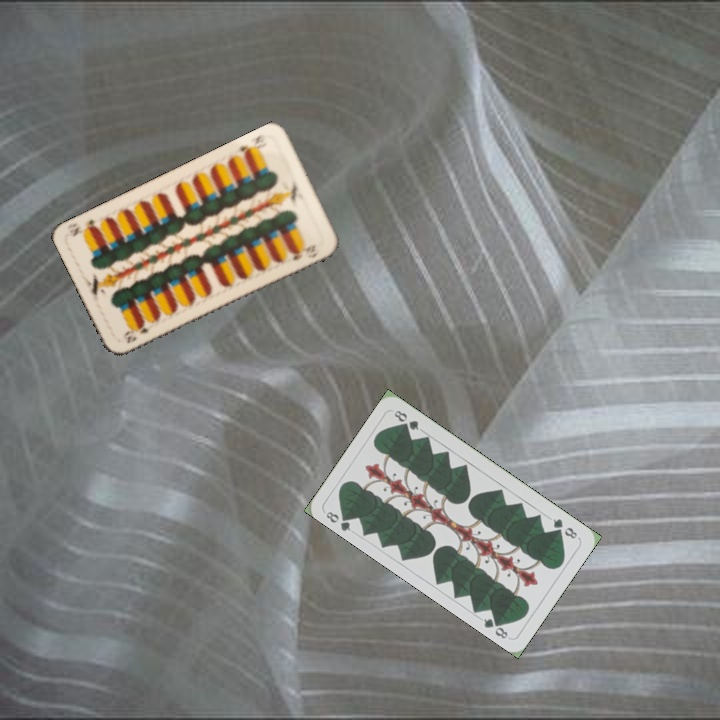E10: (235, 130, 271, 160), (119, 321, 156, 346)
G8: (322, 507, 354, 534), (549, 514, 580, 541)
